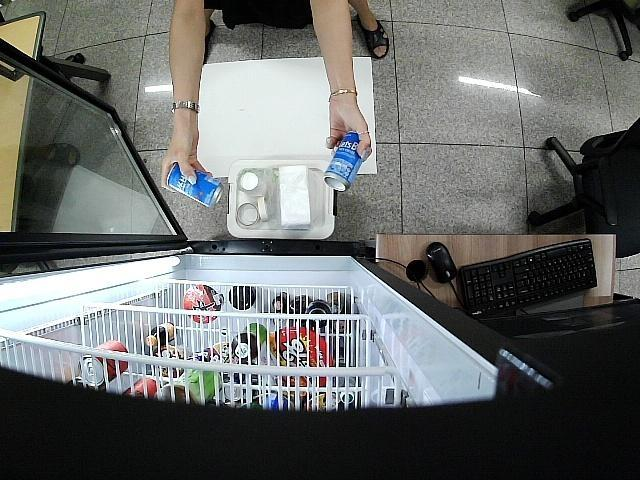15_letsbe: (168, 164, 223, 208), (324, 132, 364, 190)
